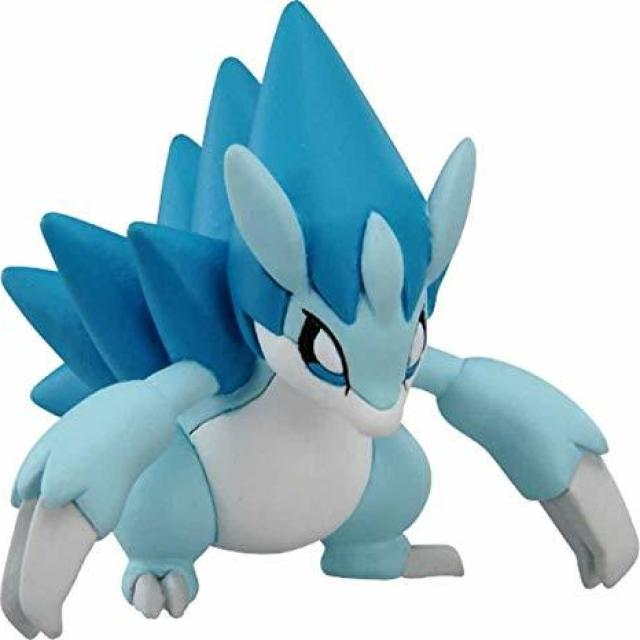Alolan: (4, 50, 530, 594)
